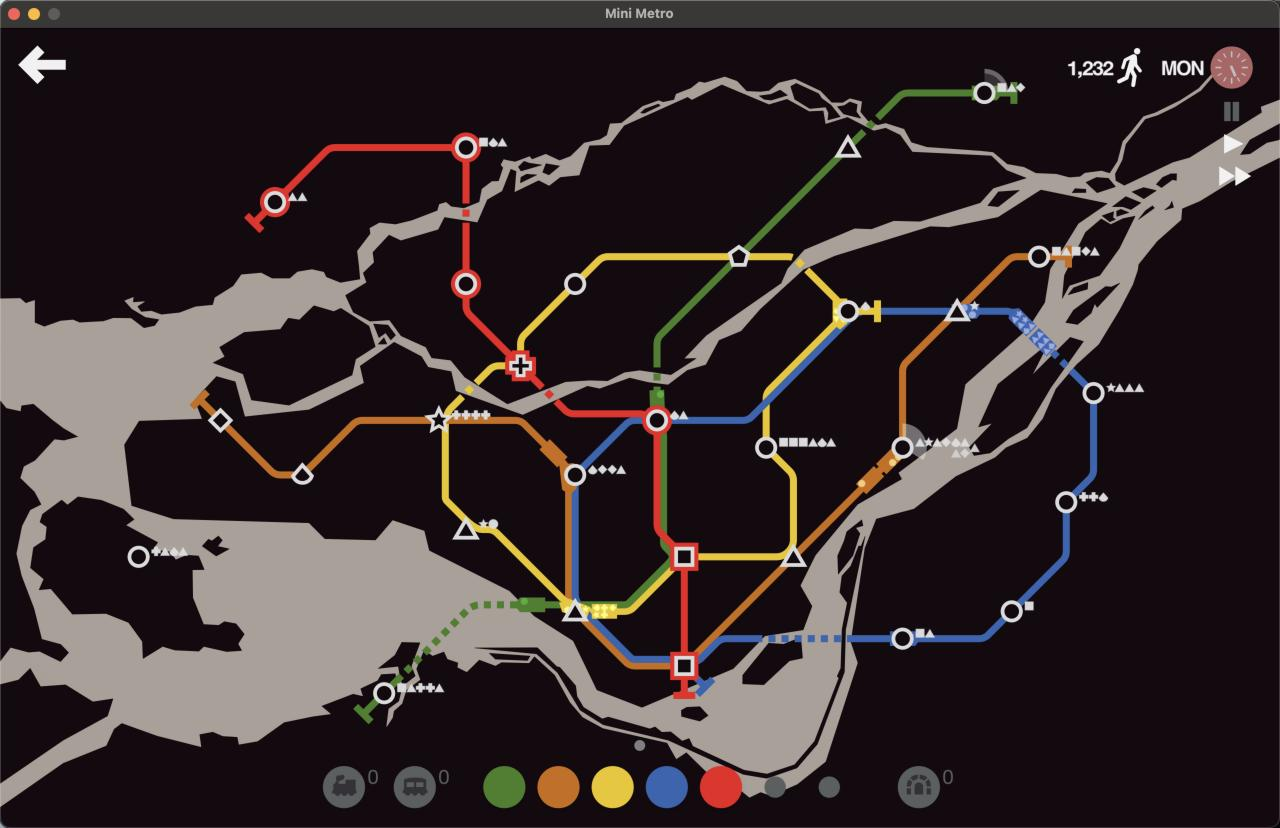CIRCLE: (451, 269, 481, 298), (452, 132, 481, 162), (261, 187, 289, 217), (643, 406, 672, 434), (835, 299, 860, 324), (371, 681, 397, 705), (971, 81, 996, 105), (891, 627, 916, 651), (1081, 381, 1106, 405), (563, 463, 587, 488), (891, 435, 915, 460), (1000, 599, 1024, 623), (1054, 490, 1078, 514), (127, 545, 151, 568), (1027, 245, 1051, 268), (754, 436, 778, 459), (563, 272, 586, 295)
CROSS: (506, 352, 534, 381)
GEM: (207, 407, 233, 433)
PENTAGON: (728, 244, 751, 268)
SQUARE: (670, 652, 698, 680), (670, 543, 697, 571)
STAR: (424, 404, 453, 433)
TRIANGLE: (943, 296, 977, 324), (560, 598, 591, 622), (780, 544, 808, 568), (835, 134, 861, 159), (452, 517, 479, 540)
WEDGE: (291, 462, 314, 485)
